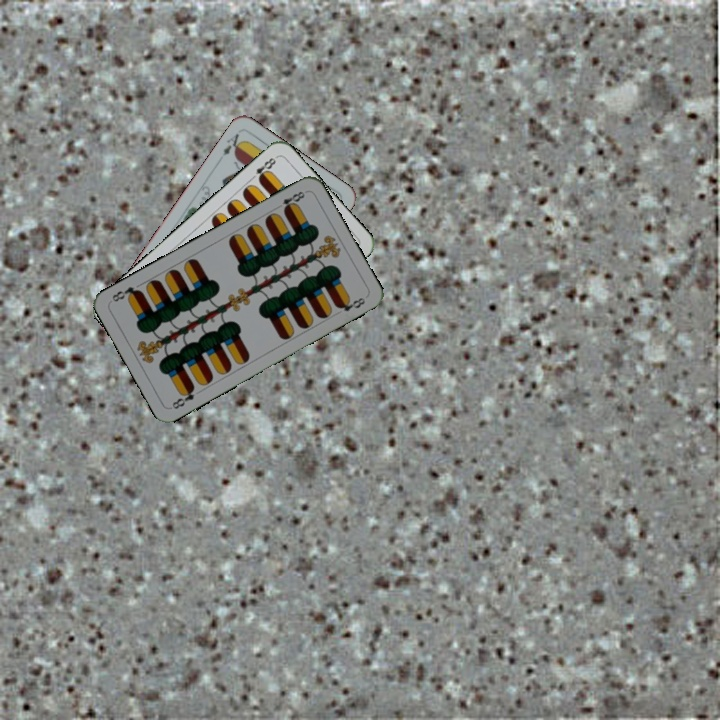E8: (271, 187, 309, 214), (246, 153, 279, 184), (168, 382, 197, 412)
EA: (219, 129, 246, 158)
